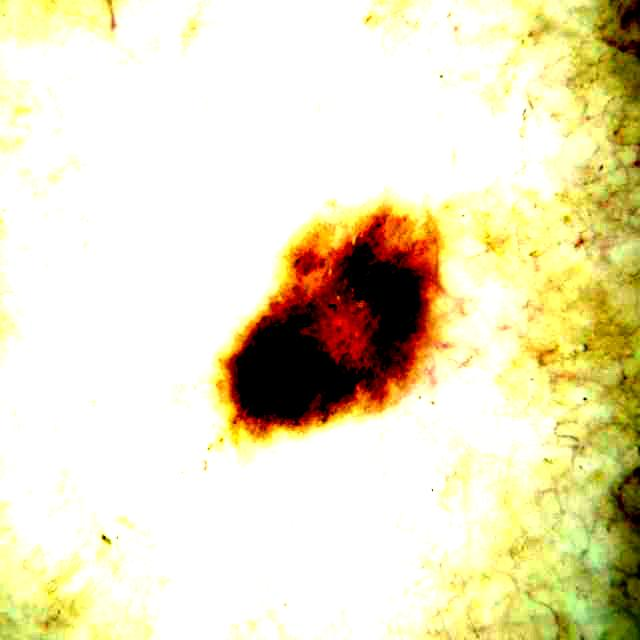AKIEC: (235, 205, 438, 425)
